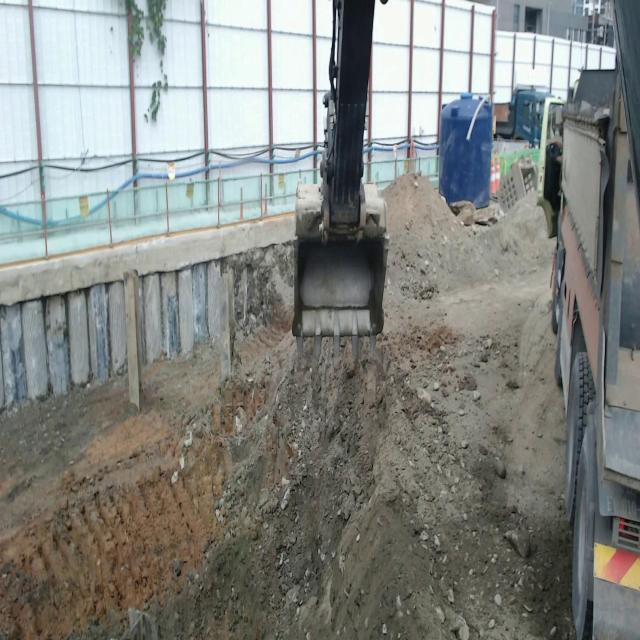white-sand: (0, 176, 573, 639)
